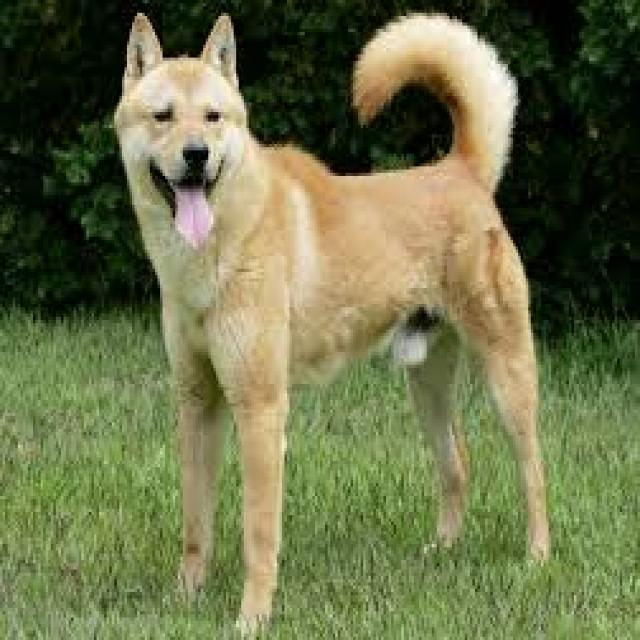dog: (87, 0, 585, 640)
